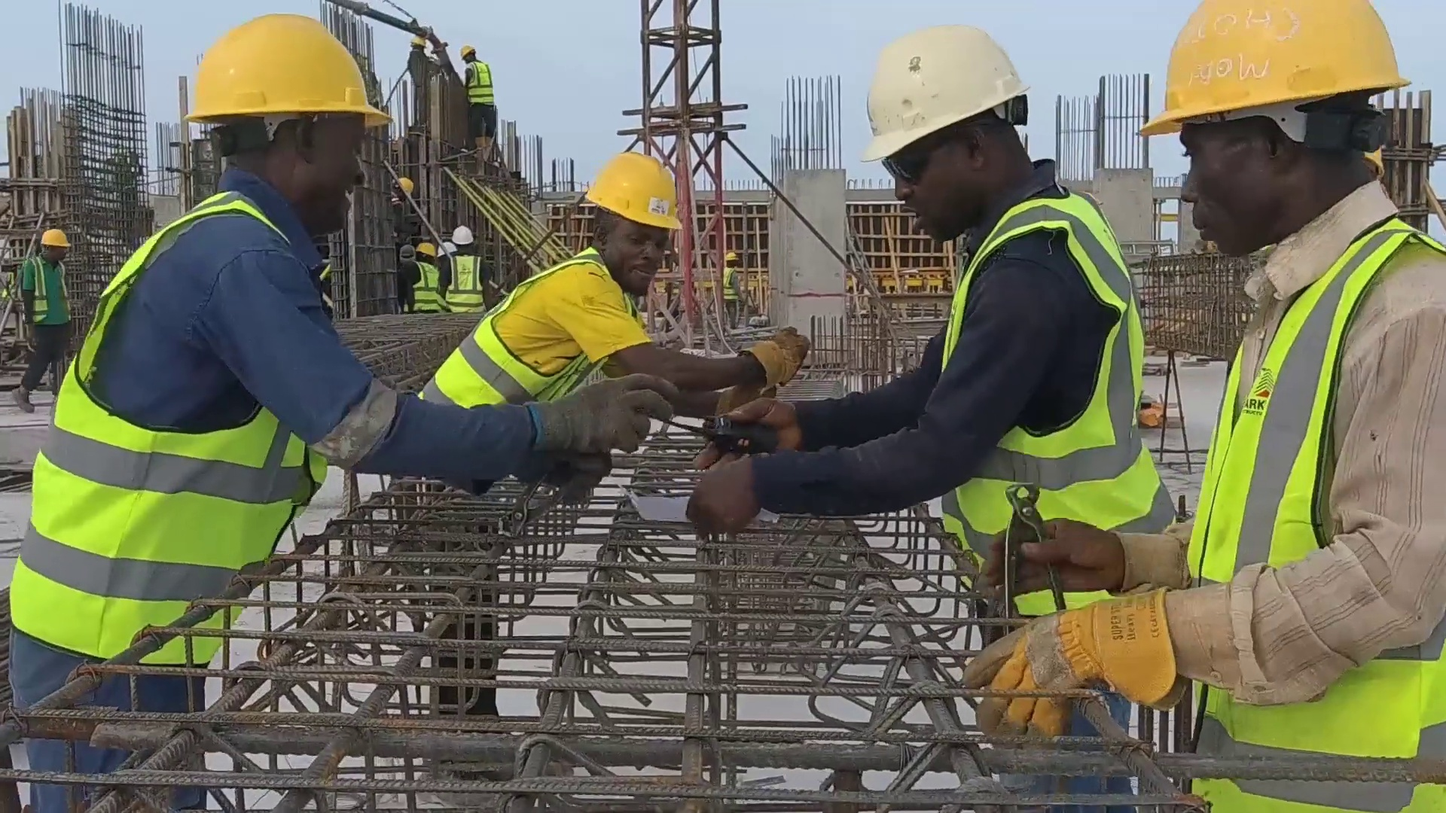helmet: (1137, 0, 1415, 138), (182, 11, 394, 130), (861, 23, 1035, 164), (584, 151, 684, 233), (39, 228, 73, 248), (444, 225, 475, 246), (416, 242, 439, 259), (396, 177, 413, 197), (460, 45, 477, 60), (408, 35, 426, 47), (725, 251, 740, 260)
person: (6, 11, 680, 813), (961, 1, 1446, 813), (684, 24, 1180, 594), (416, 147, 813, 416), (11, 229, 73, 414), (437, 225, 505, 313), (459, 45, 501, 157), (400, 242, 447, 317), (405, 34, 438, 132), (389, 177, 423, 250), (721, 251, 745, 330)
